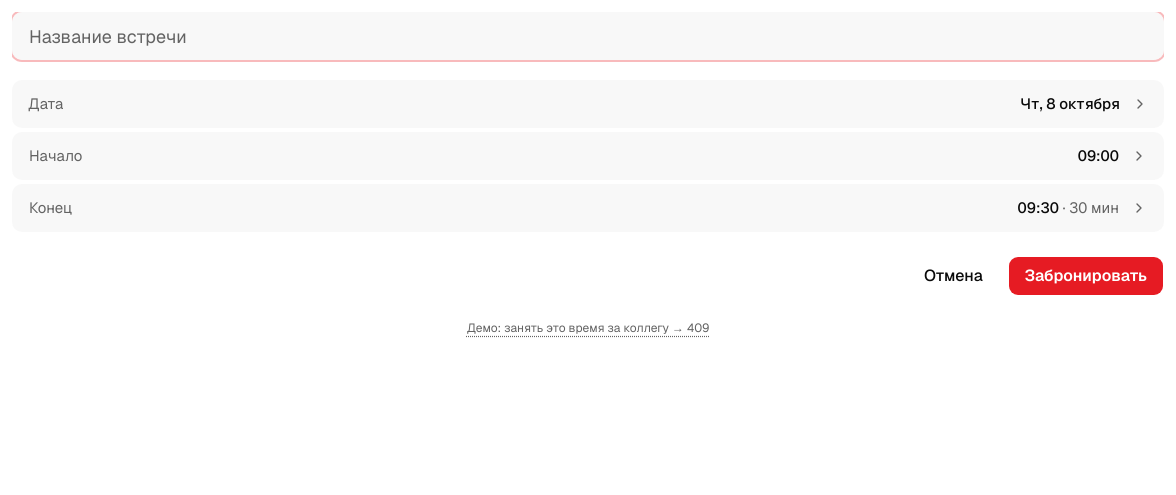
QuickBookingForm › only offers starts and ends that do not overlap another booking
Check: the button "Забронировать" is enabled, box [1008, 256, 1164, 296]
Click the dropdown labelled "Конец" at (51, 208), box [12, 184, 1164, 232]
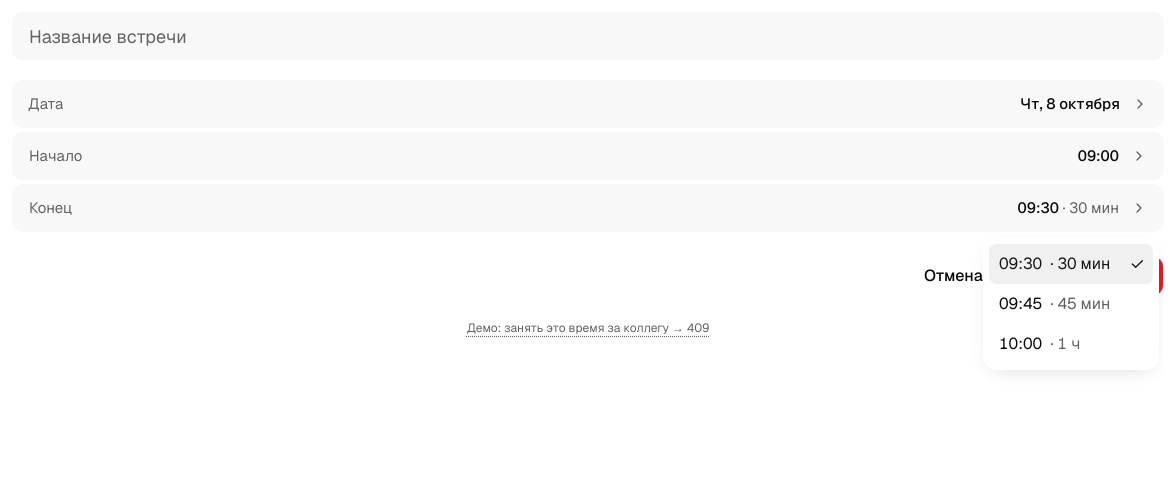
Check: the option "10:00 · 1 ч" is shown, box [999, 333, 1080, 354]
Press Escape
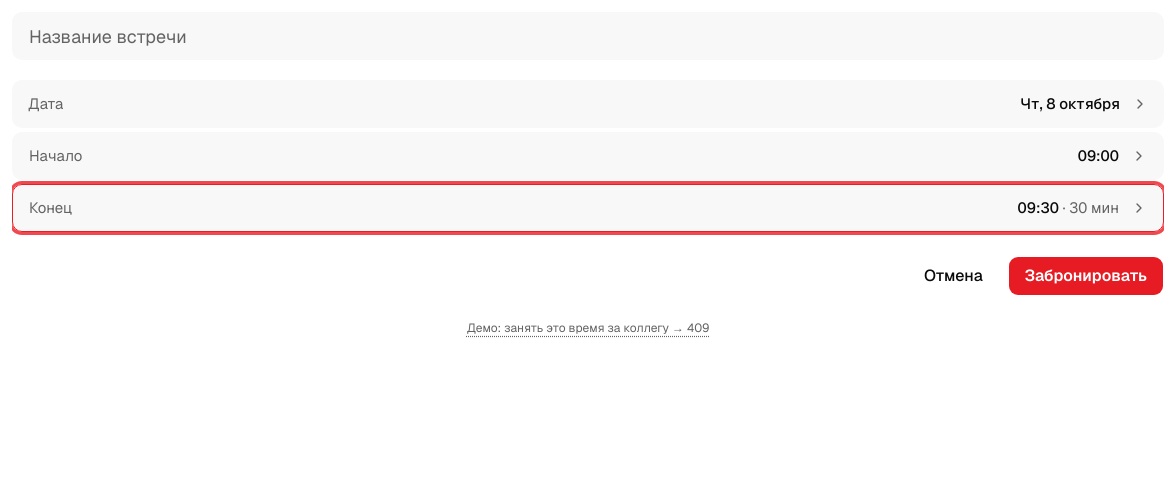
Click the dropdown labelled "Начало" at (56, 156), box [12, 132, 1164, 180]
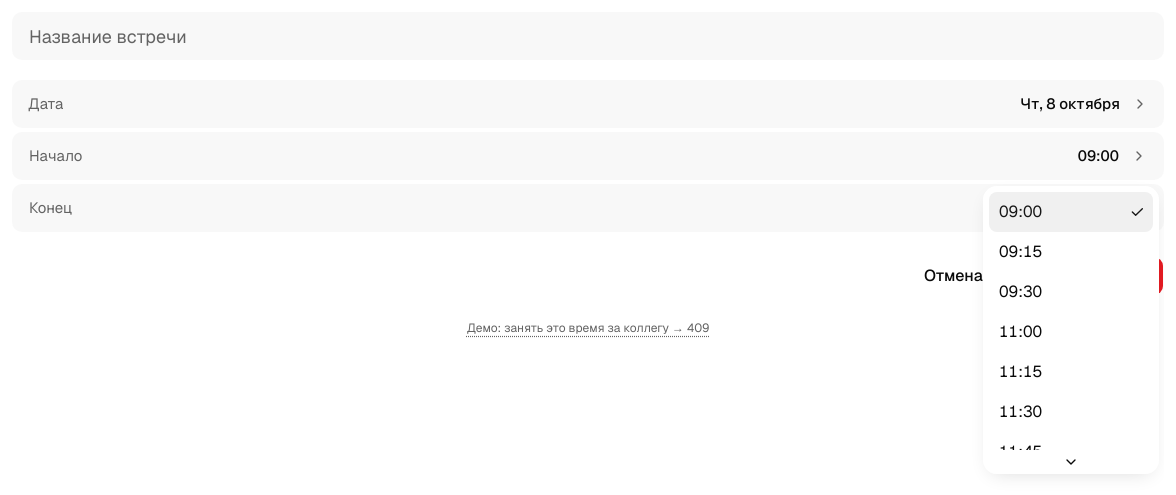
Check: the option "10:00" is not shown
Check: the option "11:00" is shown, box [999, 321, 1042, 342]
